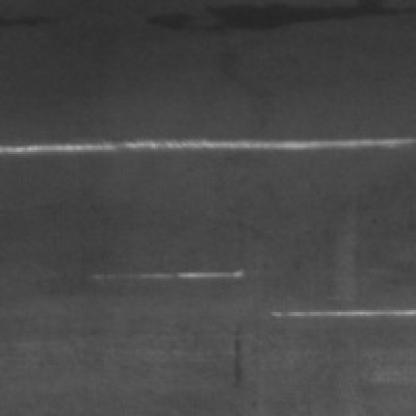inclusion: (229, 314, 254, 391)
scratches: (2, 124, 412, 164), (272, 298, 416, 322), (96, 260, 250, 278)
